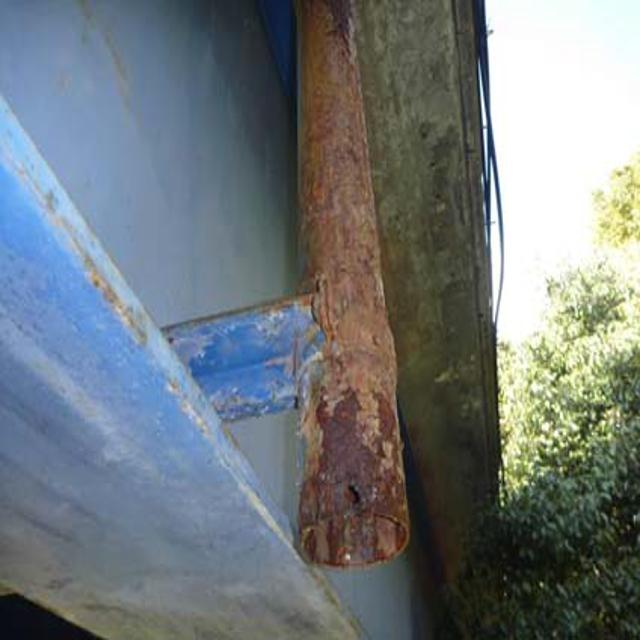corrosion: (294, 17, 432, 576)
